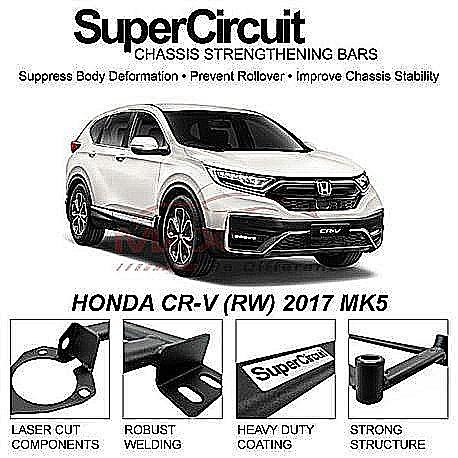Car hood: (182, 147, 363, 181)
Driver-s door - -F-R-: (111, 94, 169, 243)
Fender - -F-R-: (151, 132, 215, 228)
Fender - -R-R-: (59, 119, 93, 190)
Front bumper: (190, 179, 386, 259)
Headlight - -L-: (354, 167, 373, 195)
Headlight - -R-: (202, 162, 280, 198)
Passenger-s door - -R-R-: (81, 93, 134, 240)
Side bumper - -R-: (84, 202, 163, 243)
Side mirror - -R-: (127, 133, 171, 157)
